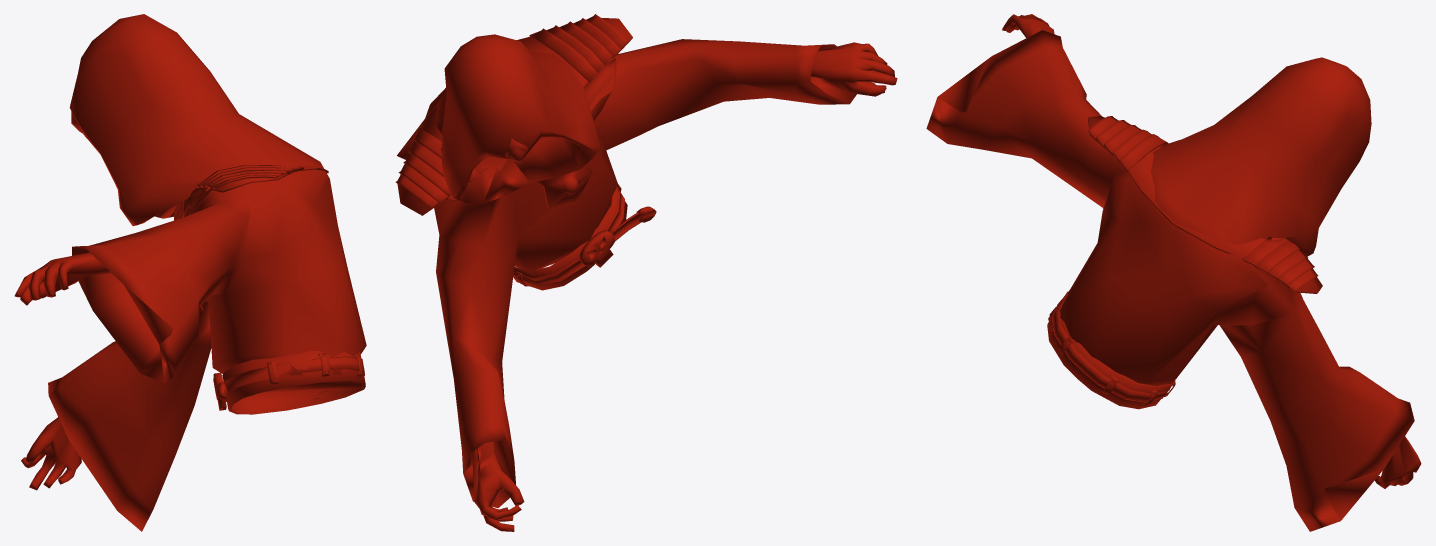
The model's file is top_000054.obj.
3 views of the same model, side by side, from view 1: azimuth 30°, elevation 25°; view 2: azimuth 150°, elevation 25°; view 3: azimuth 270°, elevation 25° (orthographic). The views are drawn at different scales.
Visible parts, largest first — view 1: LowPoly_Warlock.000_Plane.005; view 2: LowPoly_Warlock.000_Plane.005; view 3: LowPoly_Warlock.000_Plane.005.
Boxes of the visible parts, bbox=[...] form: LowPoly_Warlock.000_Plane.005: bbox=[14, 14, 366, 531]; LowPoly_Warlock.000_Plane.005: bbox=[395, 14, 897, 531]; LowPoly_Warlock.000_Plane.005: bbox=[926, 14, 1421, 531].
Size of the model in its own units: 1.2 by 1.43 by 1.36.
